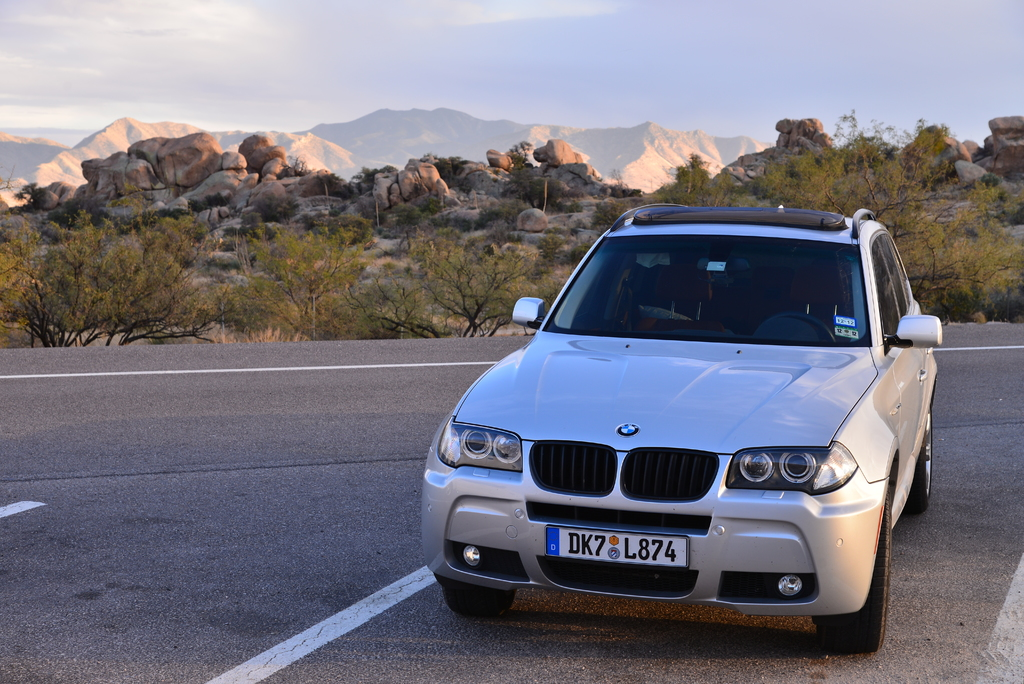license plate: (549, 527, 694, 563)
